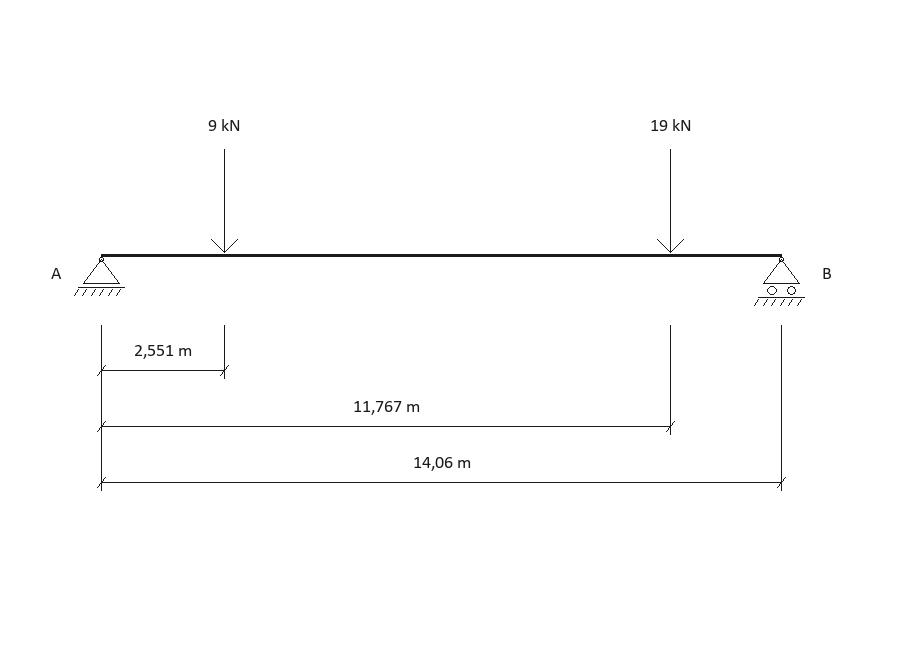pin_support: (74, 257, 125, 296)
point_load: (211, 149, 238, 253), (657, 149, 684, 253)
roller_support: (754, 257, 805, 306)
